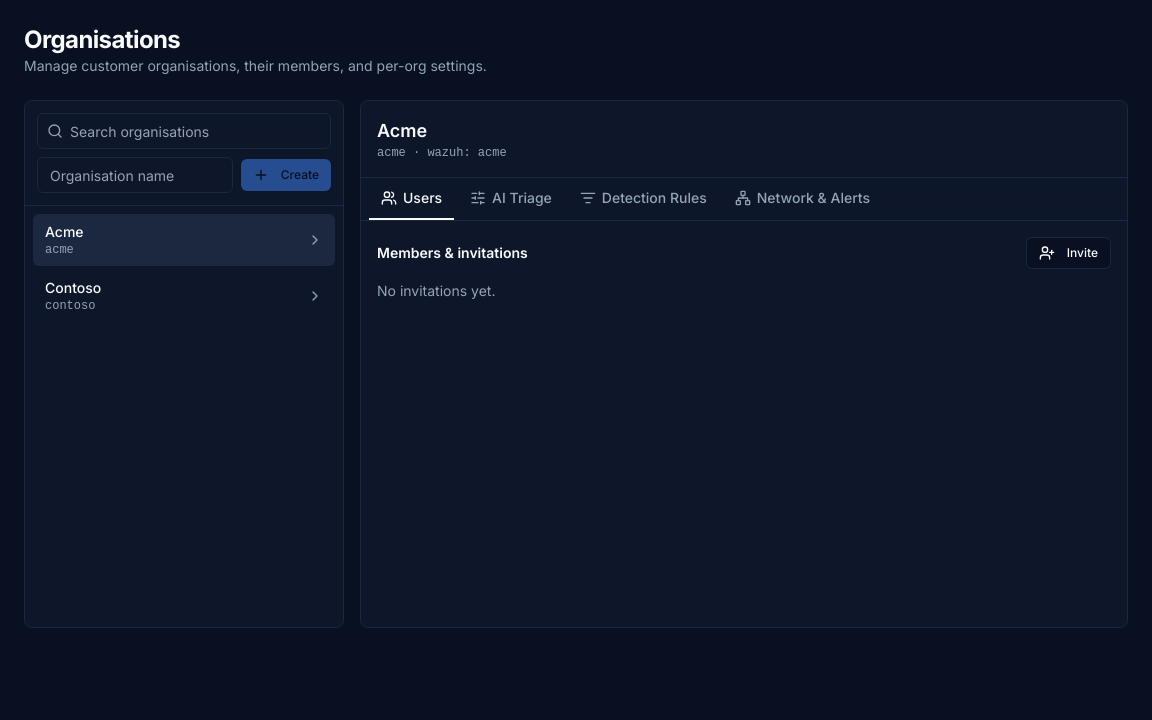
OrgManagement › Users tab — invite dialog › opens invite dialog when Invite button is clicked
Check: the heading "Acme" is shown, box [377, 117, 427, 145]
Step 1. Click the button with aria-label "invite user to acme" → (1068, 253), box [1026, 237, 1111, 269]
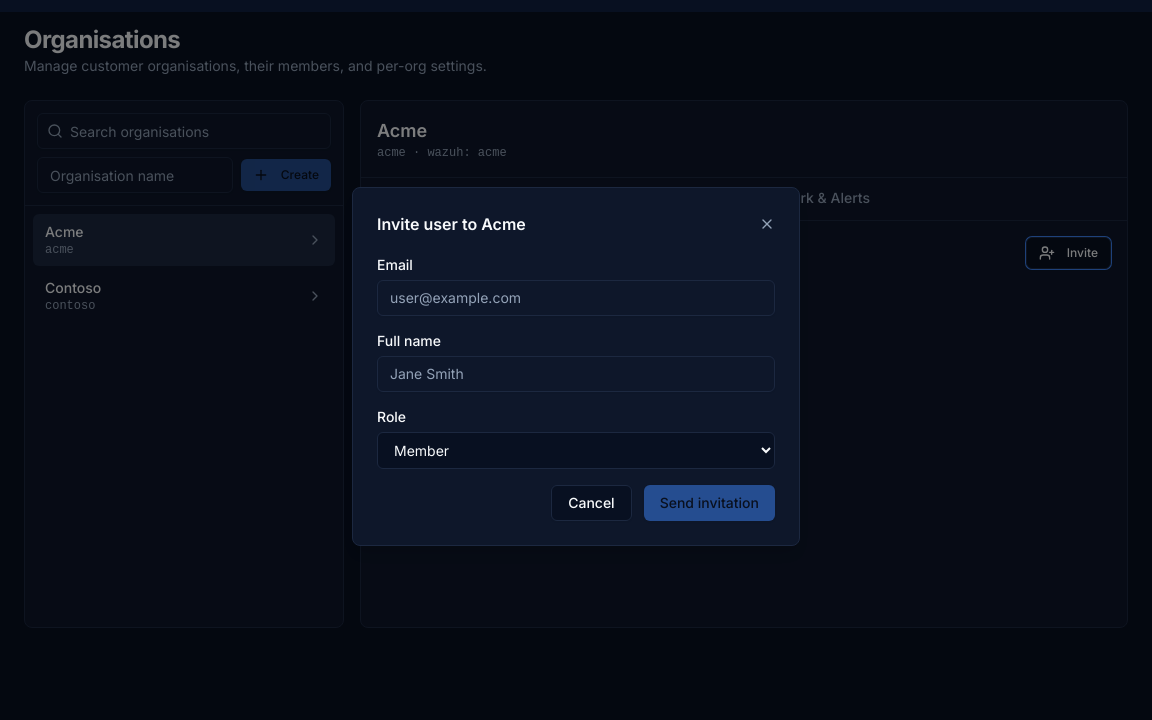
Check: the heading "Invite user to Acme" is shown, box [377, 212, 526, 236]
